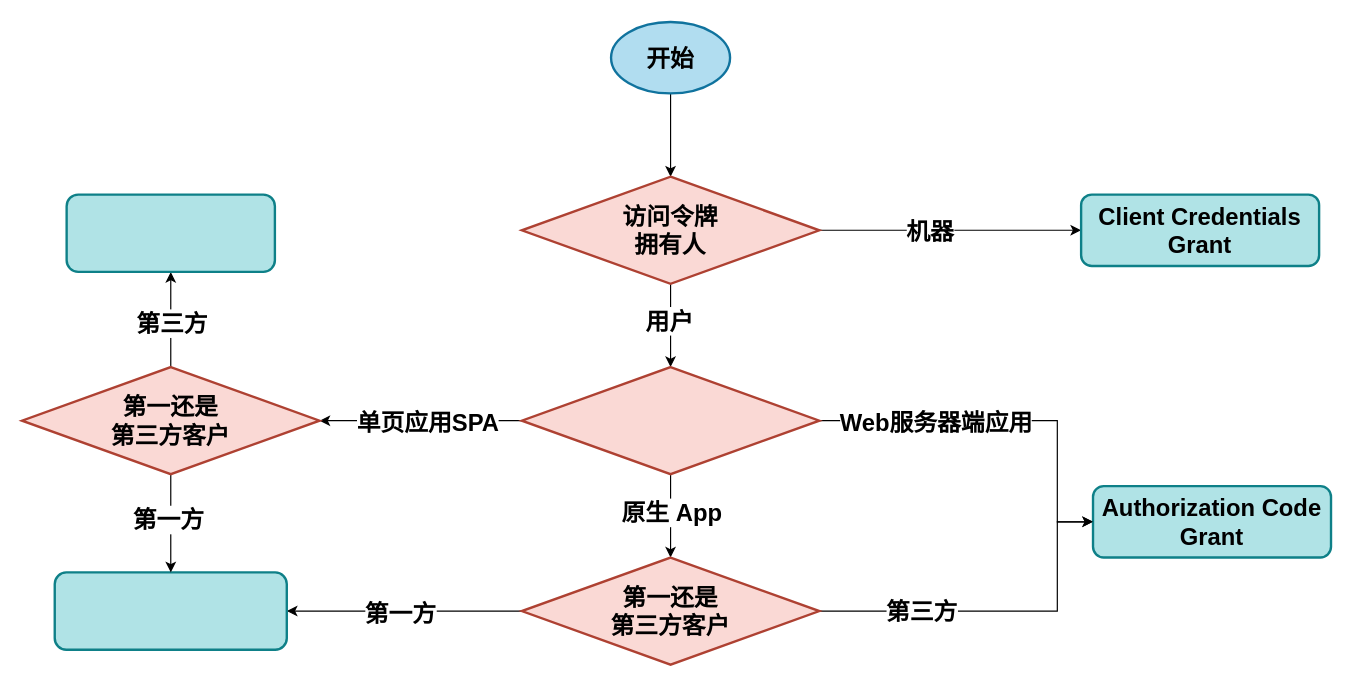
This 1352x685 diagram has some shape labels left out. Here are the shapes that lost their labels. From the top down, the box of each, then its label:
(65, 193, 275, 273): Implicit Crant
(520, 365, 820, 475): 客户类型
(53, 571, 287, 650): Resource Owner Credentials Grant
